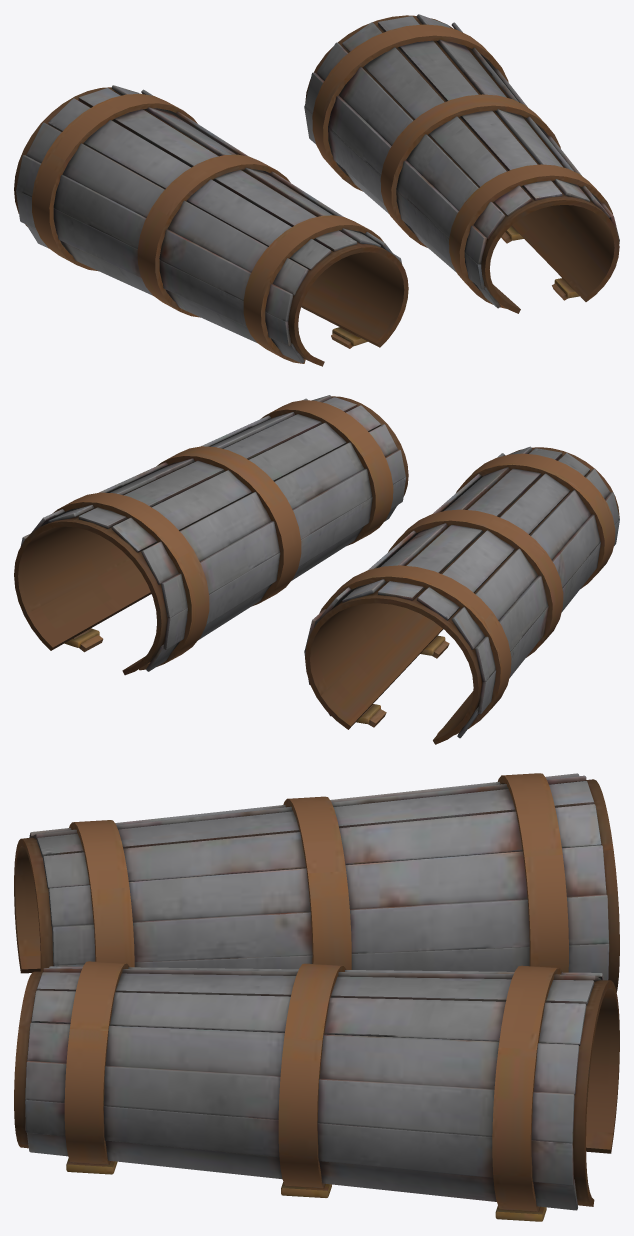
Rendered from vambraces.glb.
The picture shows the model from 3 angles, top to bottom: view 1: azimuth 30°, elevation 25°; view 2: azimuth 150°, elevation 25°; view 3: azimuth 270°, elevation 25°; orthographic projection. The views are drawn at different scales.
Visible parts, largest first — view 1: vambraces; view 2: vambraces; view 3: vambraces.
Part boxes in pixels (bbox=[...]): vambraces: bbox=[14, 14, 619, 366]; vambraces: bbox=[14, 395, 619, 744]; vambraces: bbox=[14, 773, 619, 1221].
Bounding box in the file's own units: 0.3045 × 0.0959 × 0.2506.
1 material, 1 textured.
